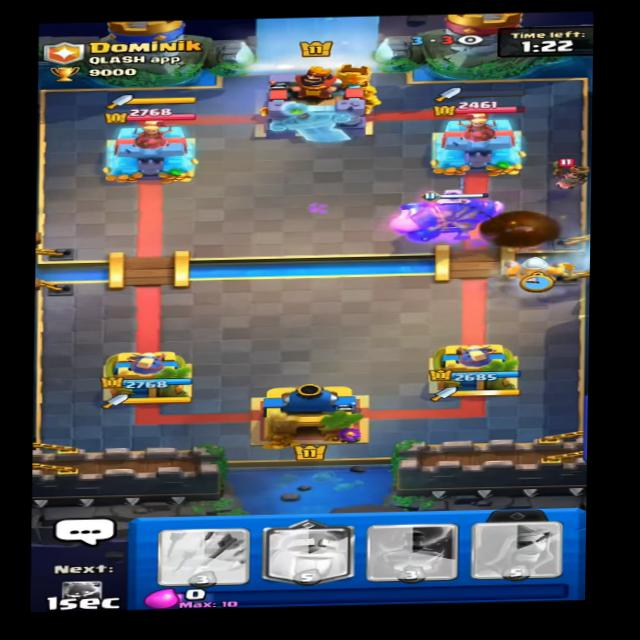little-prince: (549, 157, 589, 193)
